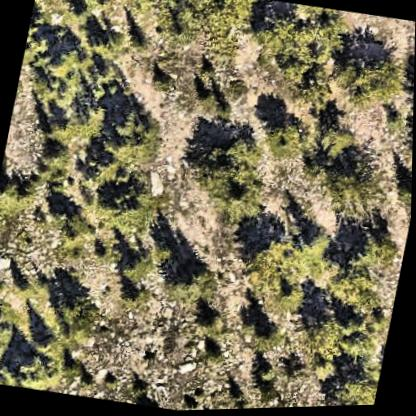tree-top: (237, 219, 328, 325), (182, 128, 271, 227), (252, 8, 340, 84), (322, 232, 394, 323), (331, 46, 409, 117), (311, 154, 386, 224), (93, 179, 161, 246), (168, 0, 257, 51), (292, 310, 350, 376), (49, 286, 105, 350), (98, 113, 154, 167), (259, 115, 311, 169), (158, 262, 211, 312), (26, 34, 73, 81), (327, 367, 380, 408), (311, 121, 358, 167), (175, 263, 220, 310), (0, 174, 32, 226), (16, 349, 52, 391), (85, 27, 124, 62), (249, 323, 284, 359), (118, 252, 151, 285), (194, 312, 227, 341), (122, 284, 153, 313), (145, 68, 176, 96), (393, 172, 413, 214), (0, 305, 12, 356), (405, 84, 414, 138), (118, 0, 158, 10)
